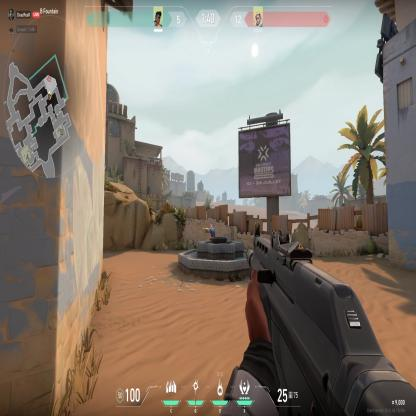enemy: (206, 223, 216, 236)
